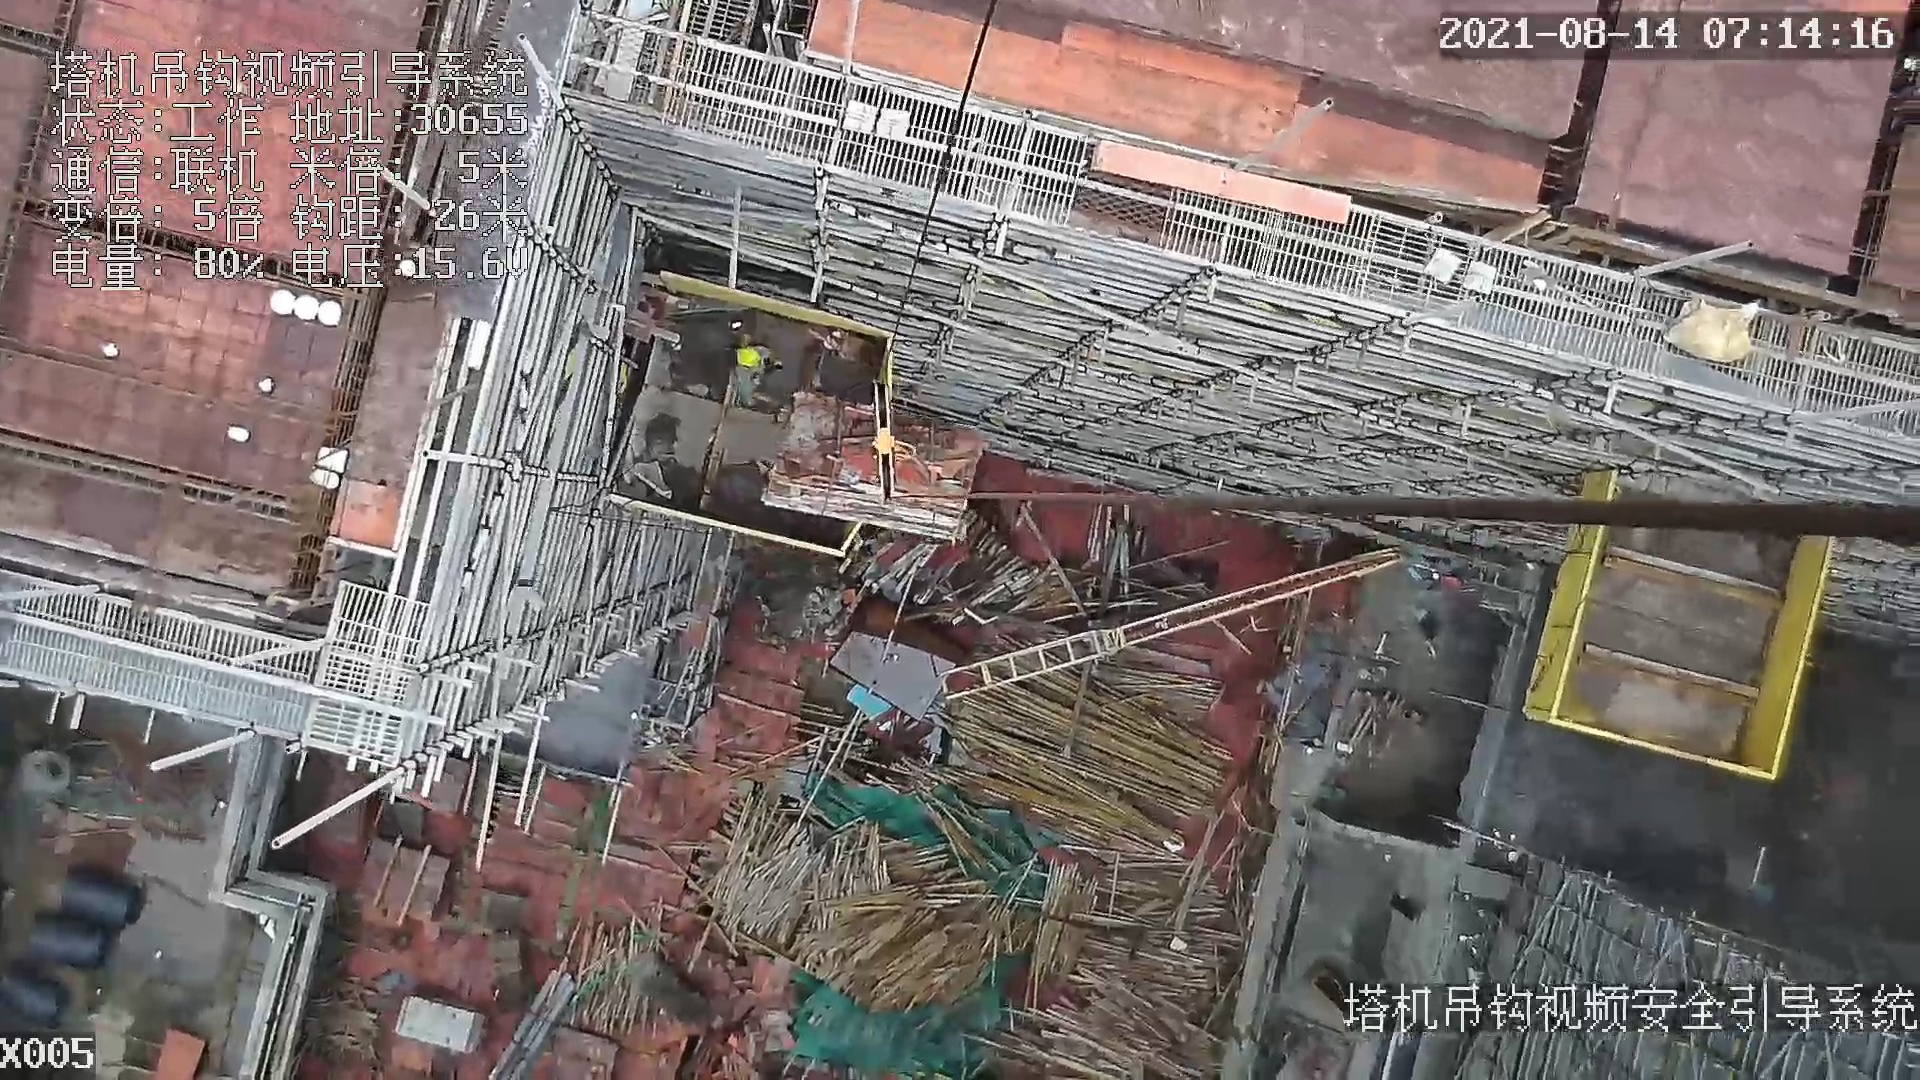helmet: (740, 343, 758, 368)
hook: (865, 377, 917, 508)
person: (655, 317, 758, 391)
